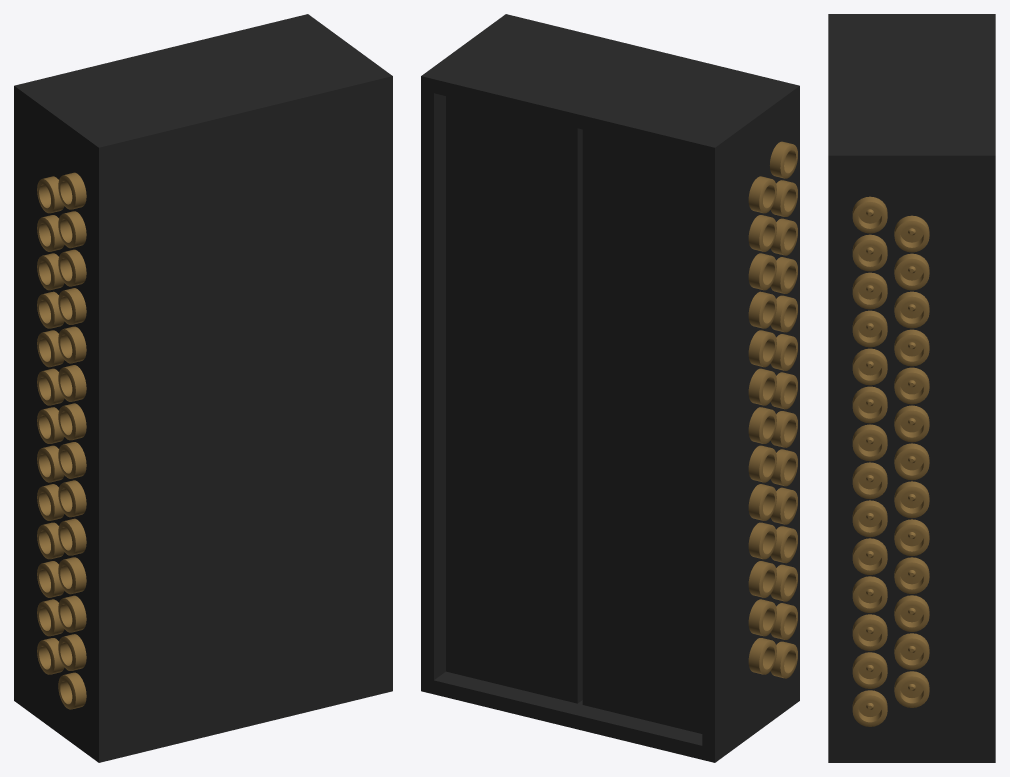
File: Router.gltf
3 views of the same model, side by side, from view 1: azimuth 30°, elevation 25°; view 2: azimuth 150°, elevation 25°; view 3: azimuth 270°, elevation 25° (orthographic).
Visible parts, largest first — view 1: Cube; view 2: Cube; view 3: Cube.
Boxes of the visible parts, bbox=[...] form: Cube: bbox=[14, 14, 392, 762]; Cube: bbox=[421, 14, 799, 762]; Cube: bbox=[828, 14, 995, 762].
Bounding box in the file's own units: 1.08 × 2 × 0.5.
